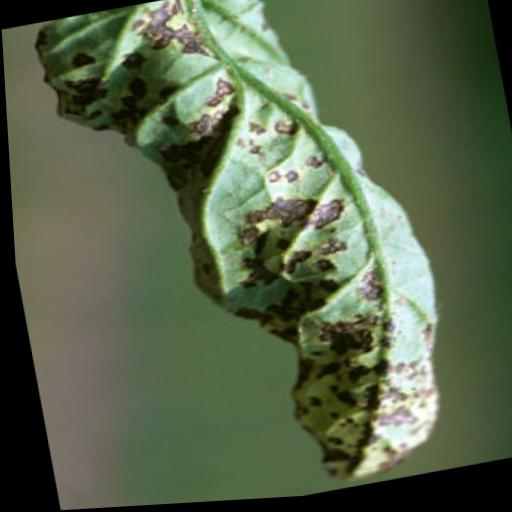Bacterial Spot: (25, 0, 467, 511)
